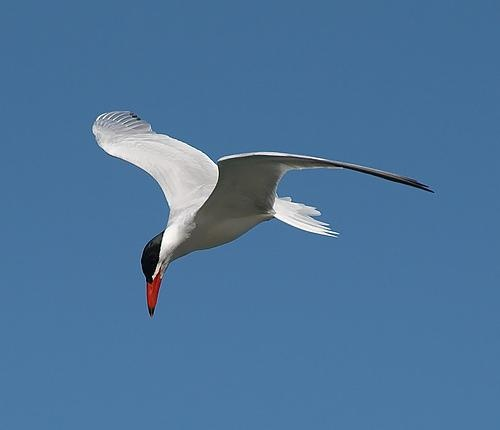bird: (86, 107, 440, 319)
